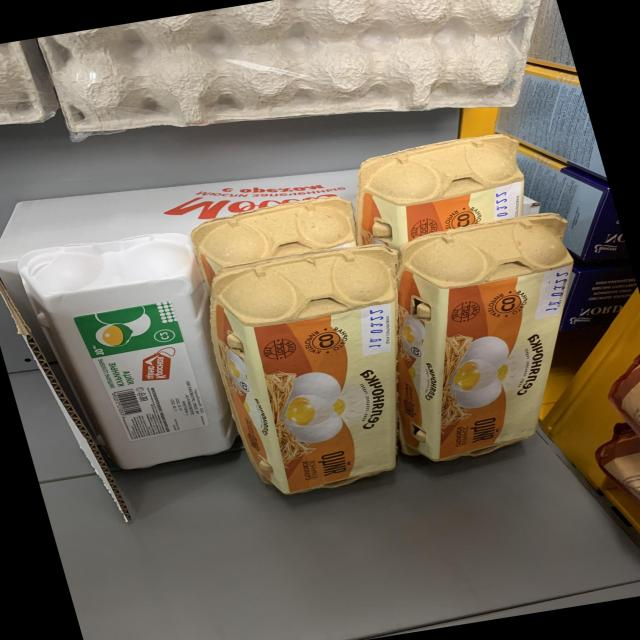organic waste: (364, 212, 629, 469), (191, 243, 445, 501), (14, 227, 248, 482), (347, 136, 539, 241), (186, 193, 360, 272)
